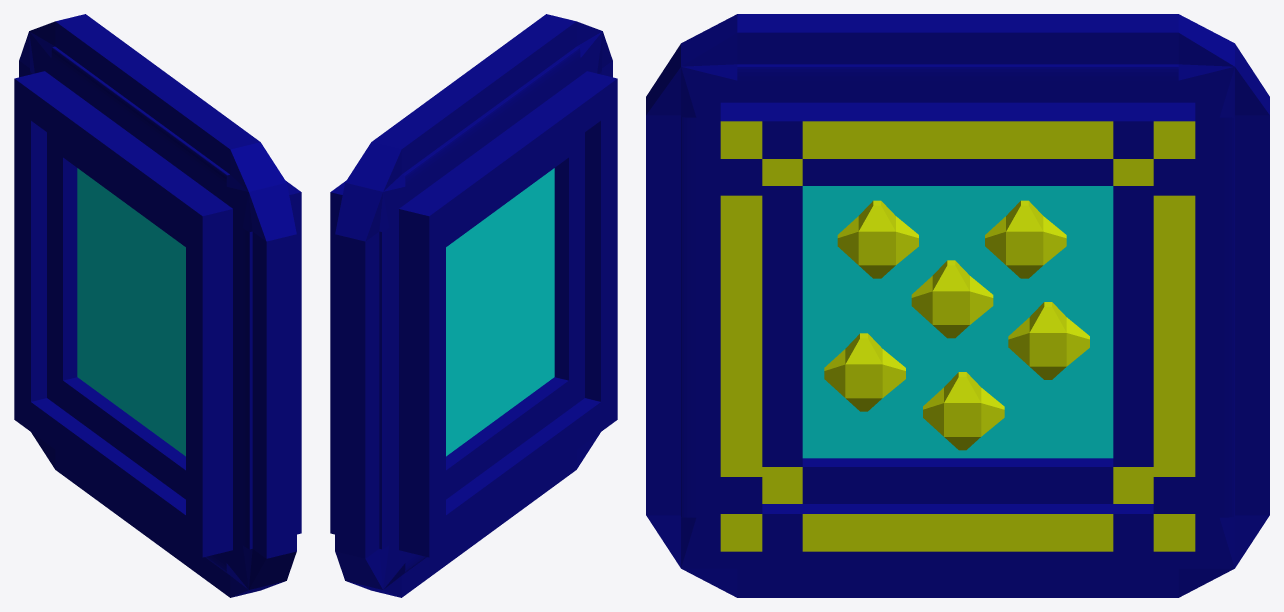
Rendered from pointbooster.fbx.
3 renders of one model, left to right at view 1: azimuth 30°, elevation 25°; view 2: azimuth 150°, elevation 25°; view 3: azimuth 270°, elevation 25°, orthographic. The views are drawn at different scales.
Visible parts, largest first — view 1: Cube; view 2: Cube; view 3: Cube.
Part boxes in pixels (x1,y1,x2,y2): Cube: [14, 14, 301, 597]; Cube: [330, 14, 617, 597]; Cube: [646, 14, 1269, 597].
Size of the model in its own units: 228 by 988 by 988.
